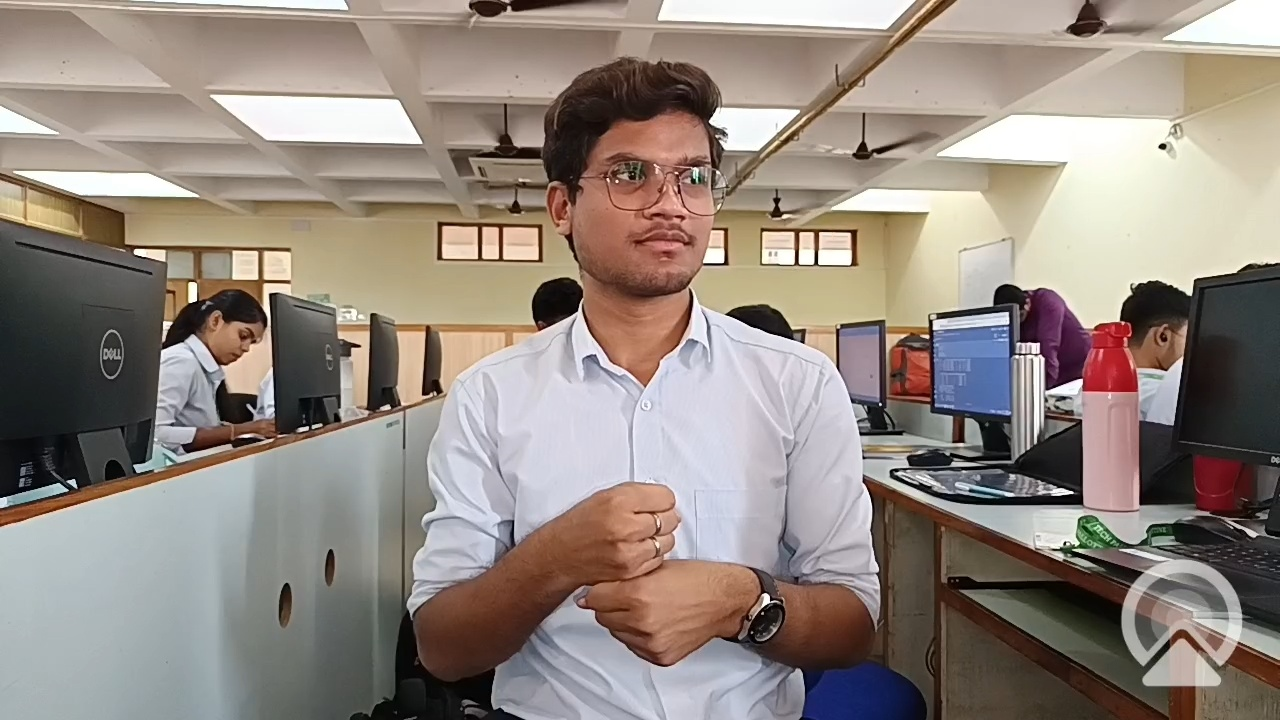G: (505, 436, 842, 683)
